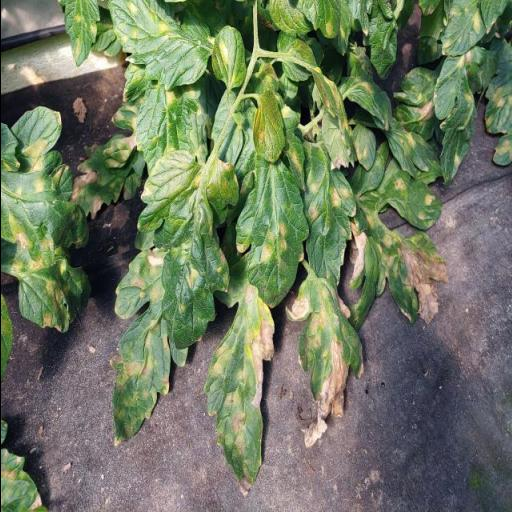Leaf Mold: (0, 104, 92, 334), (136, 149, 238, 351), (350, 140, 450, 326), (202, 254, 274, 496), (110, 247, 187, 446), (283, 268, 363, 447), (235, 156, 308, 308), (107, 0, 213, 90), (300, 139, 356, 289), (58, 0, 96, 74), (210, 24, 248, 91)
